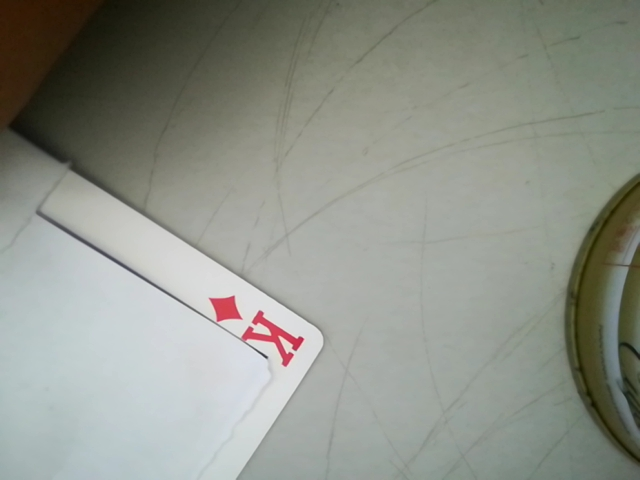fk k: (197, 287, 310, 371)
